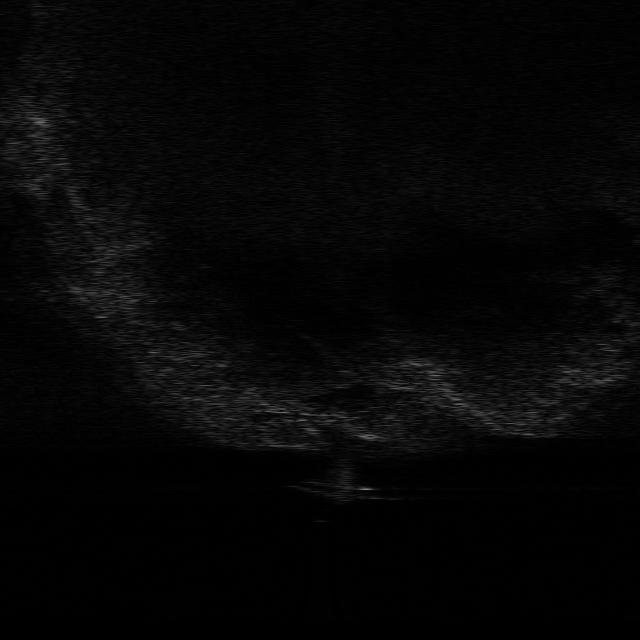plane: (294, 465, 395, 506)
